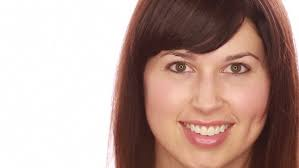white_female: (135, 24, 273, 168)
